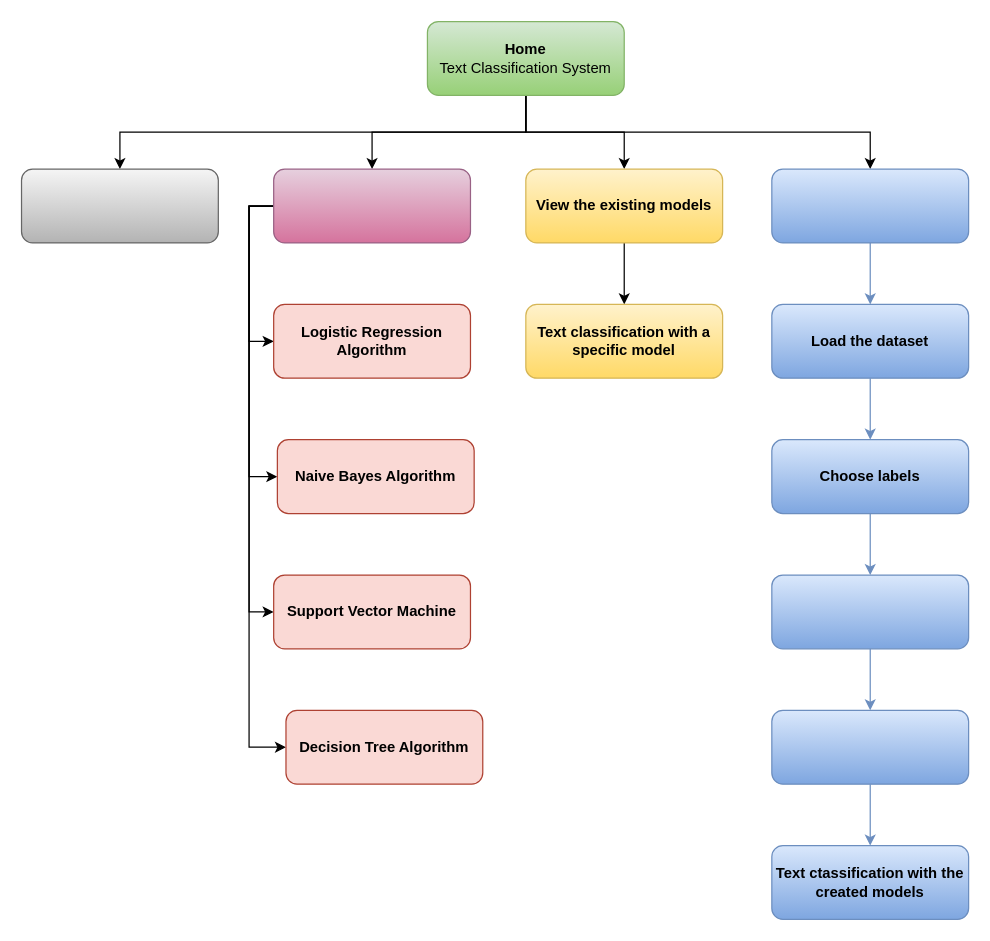
Image size: 990x941. Some labels were removed from this diagram. Each missing label, with the box of its shape:
About: (20, 168, 218, 243)
Algorithms: (272, 168, 470, 243)
Choose algorithms: (771, 574, 969, 649)
Create a new model: (771, 168, 969, 243)
Train models: (771, 709, 969, 784)
